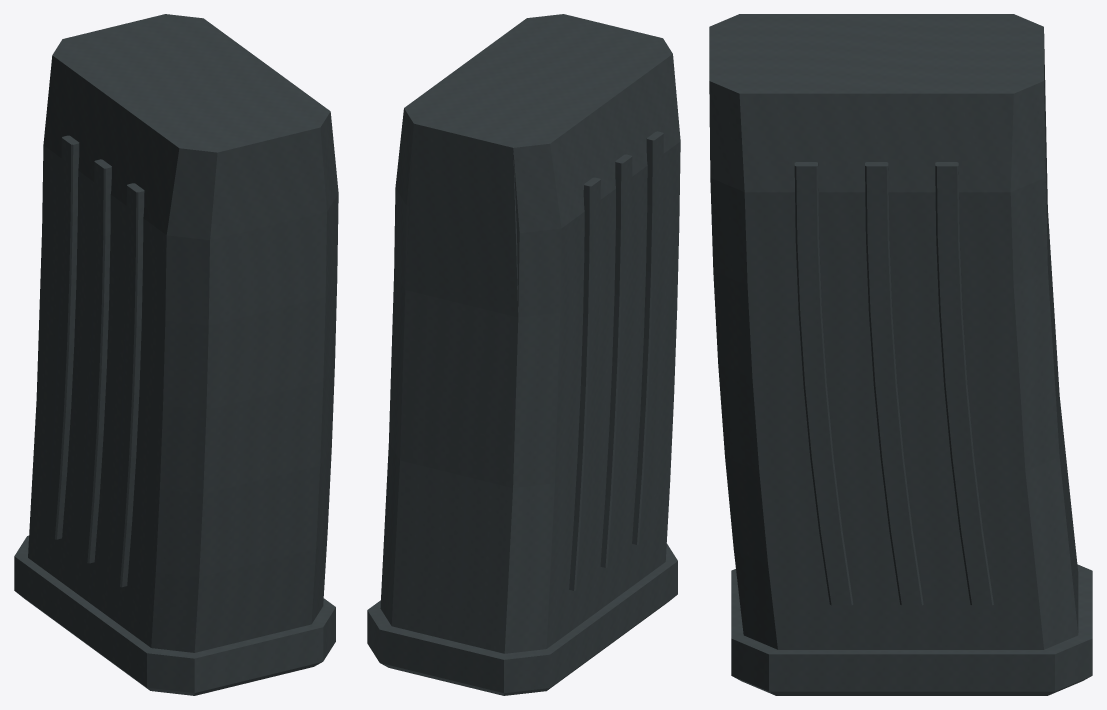
The picture shows the model from 3 angles, left to right: view 1: azimuth 30°, elevation 25°; view 2: azimuth 150°, elevation 25°; view 3: azimuth 270°, elevation 25°; orthographic projection. The views are drawn at different scales.
Parts seen in each view (by area): view 1: m14_10_individual_shell, m14_10_individual_shell.001; view 2: m14_10_individual_shell.001, m14_10_individual_shell; view 3: m14_10_individual_shell, m14_10_individual_shell.001.
Part boxes in pixels (left/top/right/bottom): m14_10_individual_shell: left=14, top=14, right=338, bottom=695; m14_10_individual_shell.001: left=28, top=232, right=164, bottom=647; m14_10_individual_shell.001: left=380, top=123, right=679, bottom=653; m14_10_individual_shell: left=367, top=14, right=680, bottom=695; m14_10_individual_shell: left=709, top=14, right=1092, bottom=695; m14_10_individual_shell.001: left=747, top=34, right=1078, bottom=649.
Bounding box in the file's own units: 0.0803 × 0.224 × 0.1306.
1 material, 1 textured.
